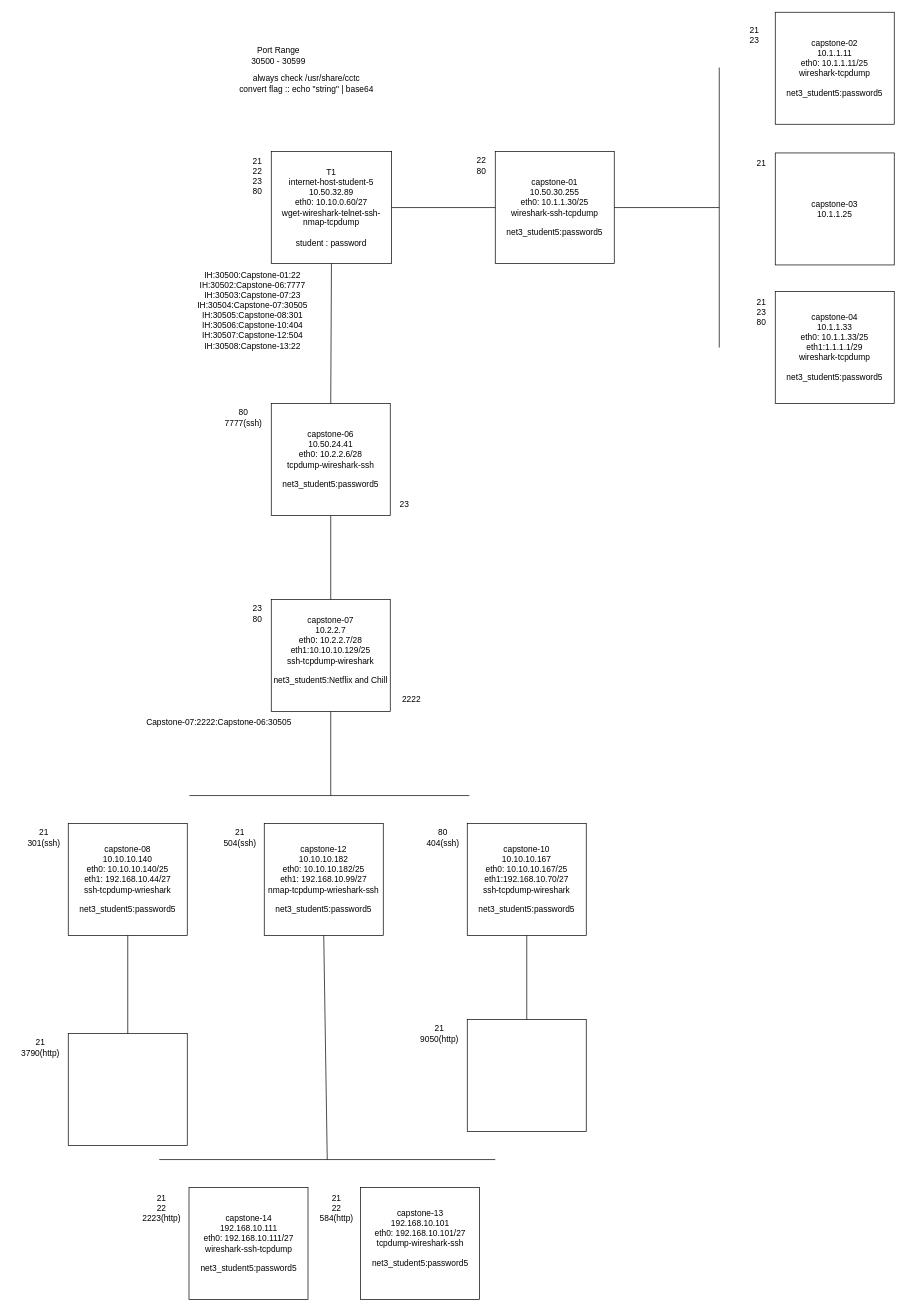
The diagram is 907 pixels wide and 1312 high, and some of its shapes have lost their labels. The shapes that lost their labels are listed below. From the top down, each one's box as (x1, y1, x2, y2) in pixels, then its label:
(68, 1033, 187, 1146): capstone-09 192.168.10.39
(467, 1019, 586, 1132): capstone-11 192.168.10.80
